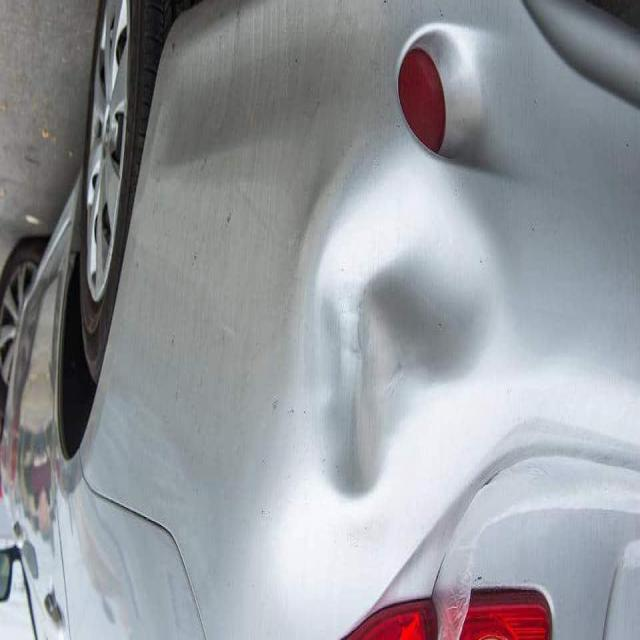dent: (288, 133, 482, 507)
